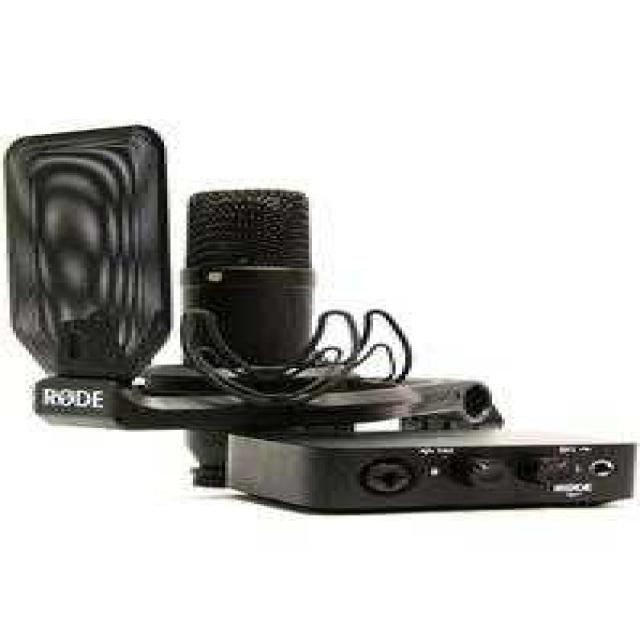microphone: (167, 183, 403, 504)
